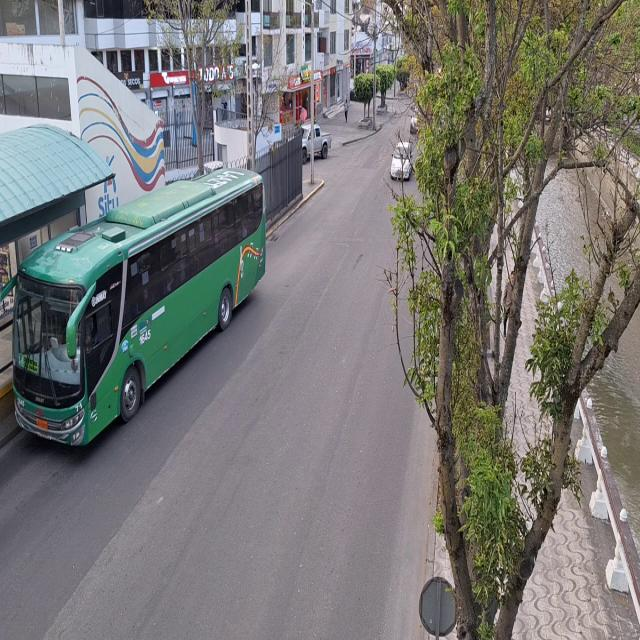BUS: (10, 179, 261, 453)
